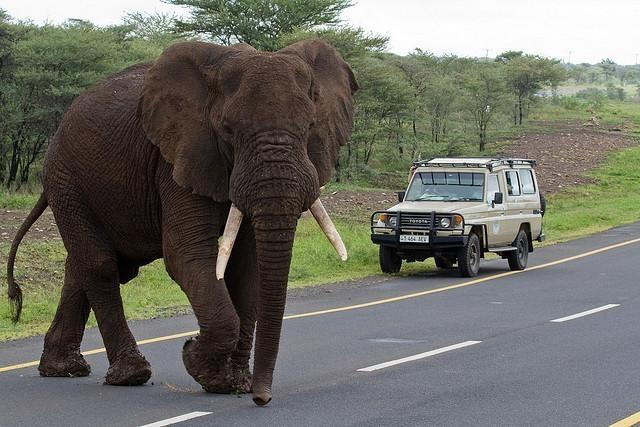truck: (370, 158, 546, 276)
